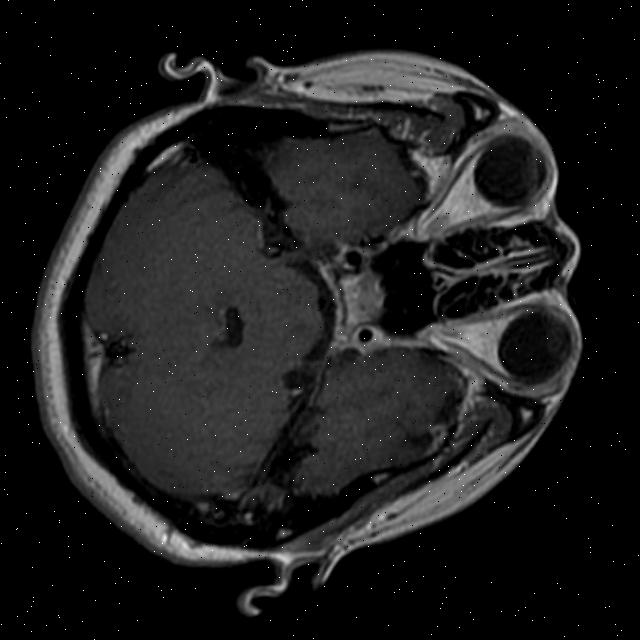Pituitary: (333, 264, 391, 331)
